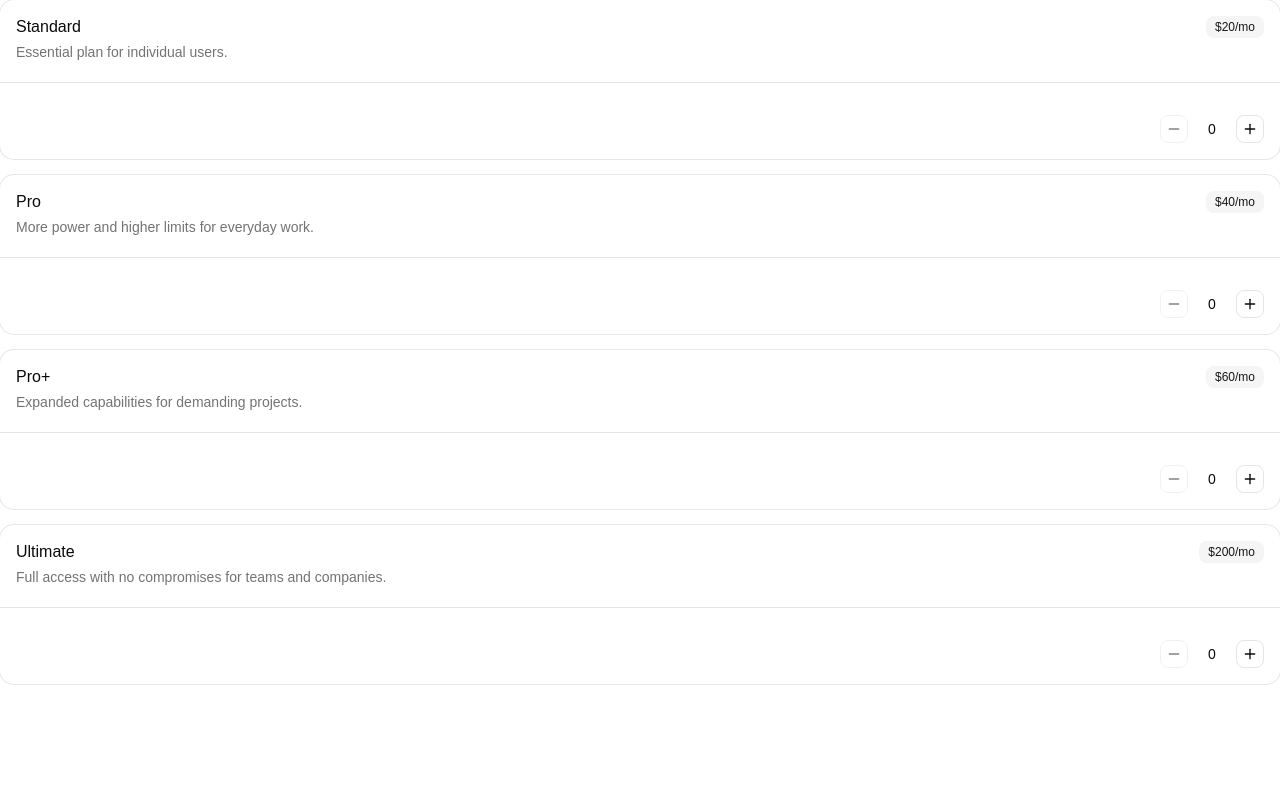
ProductList › updates quantity through product card controls
Expected: the text "Standard" is shown, [16, 18, 81, 35]
Click the button named "Increase Standard quantity": (1250, 129) [1236, 115, 1264, 143]
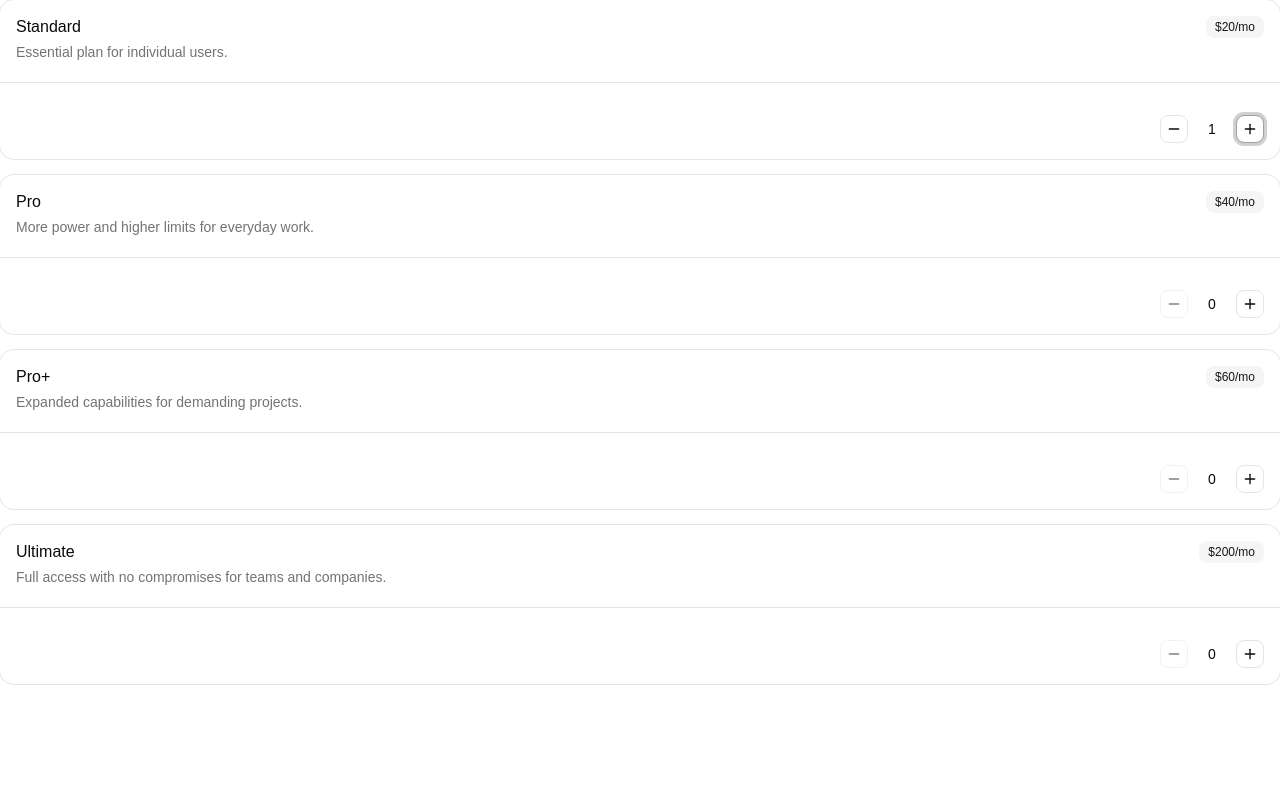
Expected: the message named "Standard quantity" reads "1", [1208, 121, 1216, 137]
Click the button named "Decrease Standard quantity": (1174, 129) [1160, 115, 1188, 143]
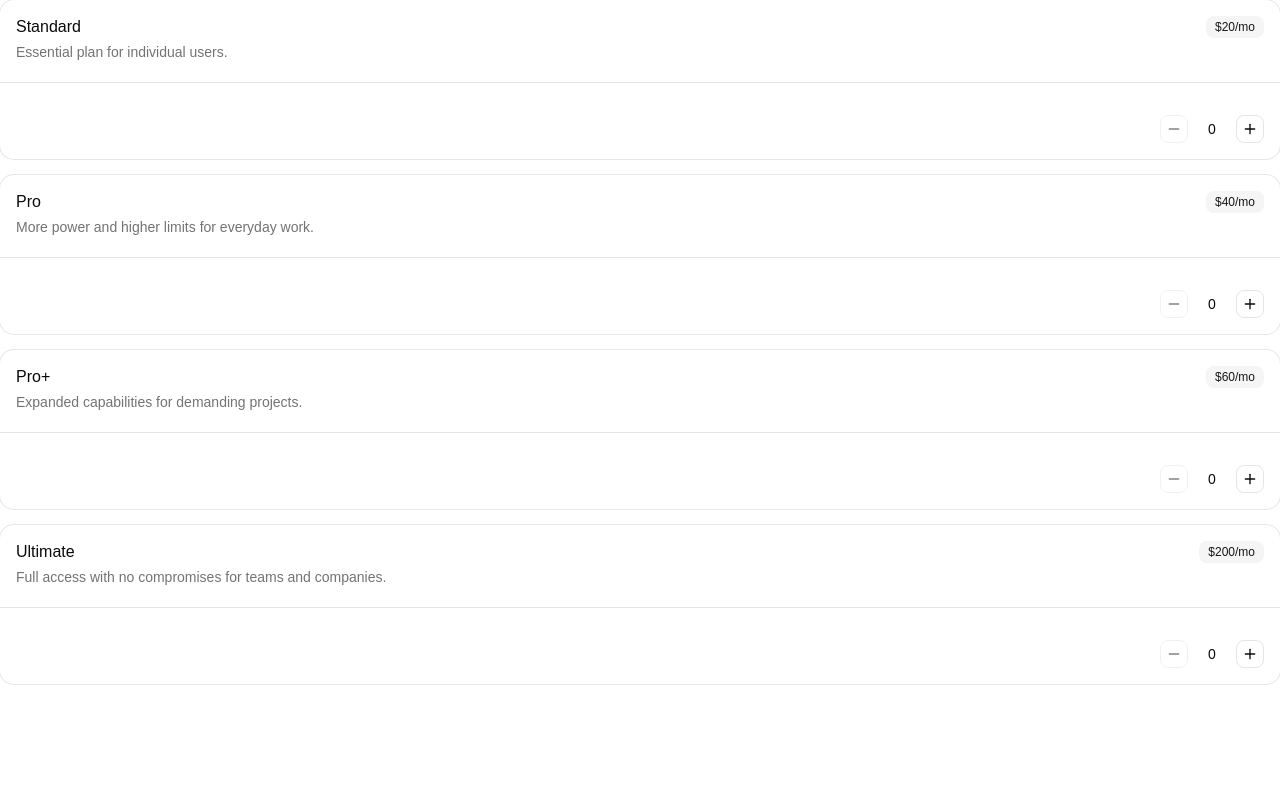
Expected: the message named "Standard quantity" reads "0", [1208, 121, 1216, 137]
